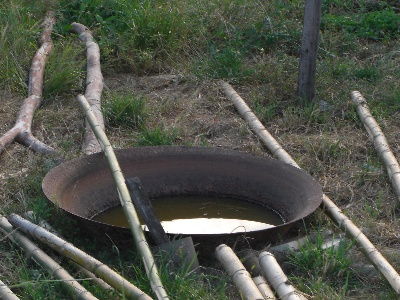bowl: (42, 145, 323, 252)
